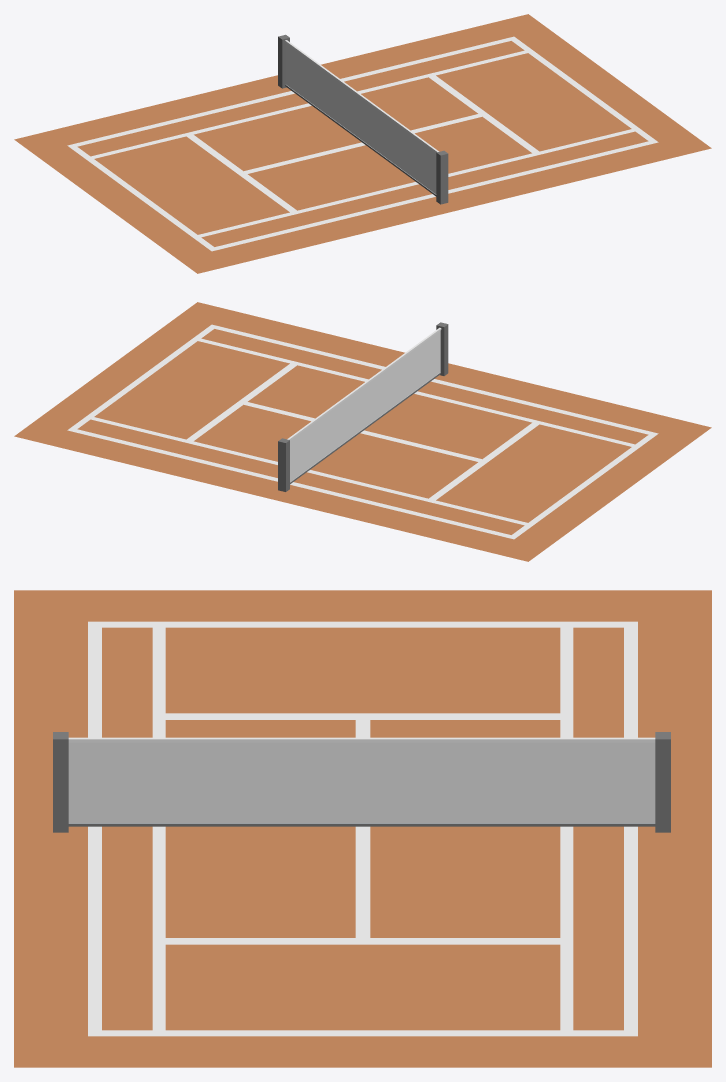
The model's file is RedTennisCourt.gltf.
The picture shows the model from 3 angles, top to bottom: view 1: azimuth 30°, elevation 25°; view 2: azimuth 150°, elevation 25°; view 3: azimuth 270°, elevation 25°; orthographic projection. The views are drawn at different scales.
Visible parts, largest first — view 1: Mesh1 Group1 Tennis_Red1 Model, Mesh10 Tennis_Red1 Model, Mesh11 Tennis_Red1 Model; view 2: Mesh1 Group1 Tennis_Red1 Model, Mesh10 Tennis_Red1 Model, Mesh11 Tennis_Red1 Model; view 3: Mesh1 Group1 Tennis_Red1 Model, Mesh10 Tennis_Red1 Model, Mesh11 Tennis_Red1 Model.
Part boxes in pixels (x1,y1,x2,y2): Mesh1 Group1 Tennis_Red1 Model: [14, 14, 711, 273]; Mesh10 Tennis_Red1 Model: [285, 40, 448, 204]; Mesh11 Tennis_Red1 Model: [278, 34, 289, 88]; Mesh1 Group1 Tennis_Red1 Model: [14, 302, 711, 561]; Mesh10 Tennis_Red1 Model: [287, 322, 448, 484]; Mesh11 Tennis_Red1 Model: [278, 438, 289, 491]; Mesh1 Group1 Tennis_Red1 Model: [14, 590, 711, 1067]; Mesh10 Tennis_Red1 Model: [53, 732, 655, 832]; Mesh11 Tennis_Red1 Model: [655, 732, 670, 832].
Bounding box in the file's own units: 395 × 36 × 244.
